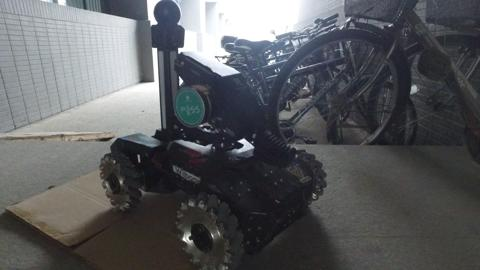bike: (271, 13, 473, 145)
chariot: (84, 3, 301, 251)
